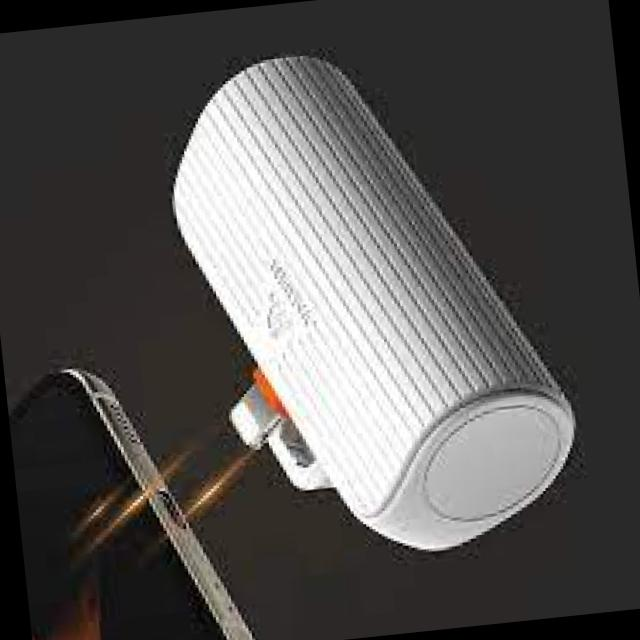portable-charger: (153, 26, 588, 578)
